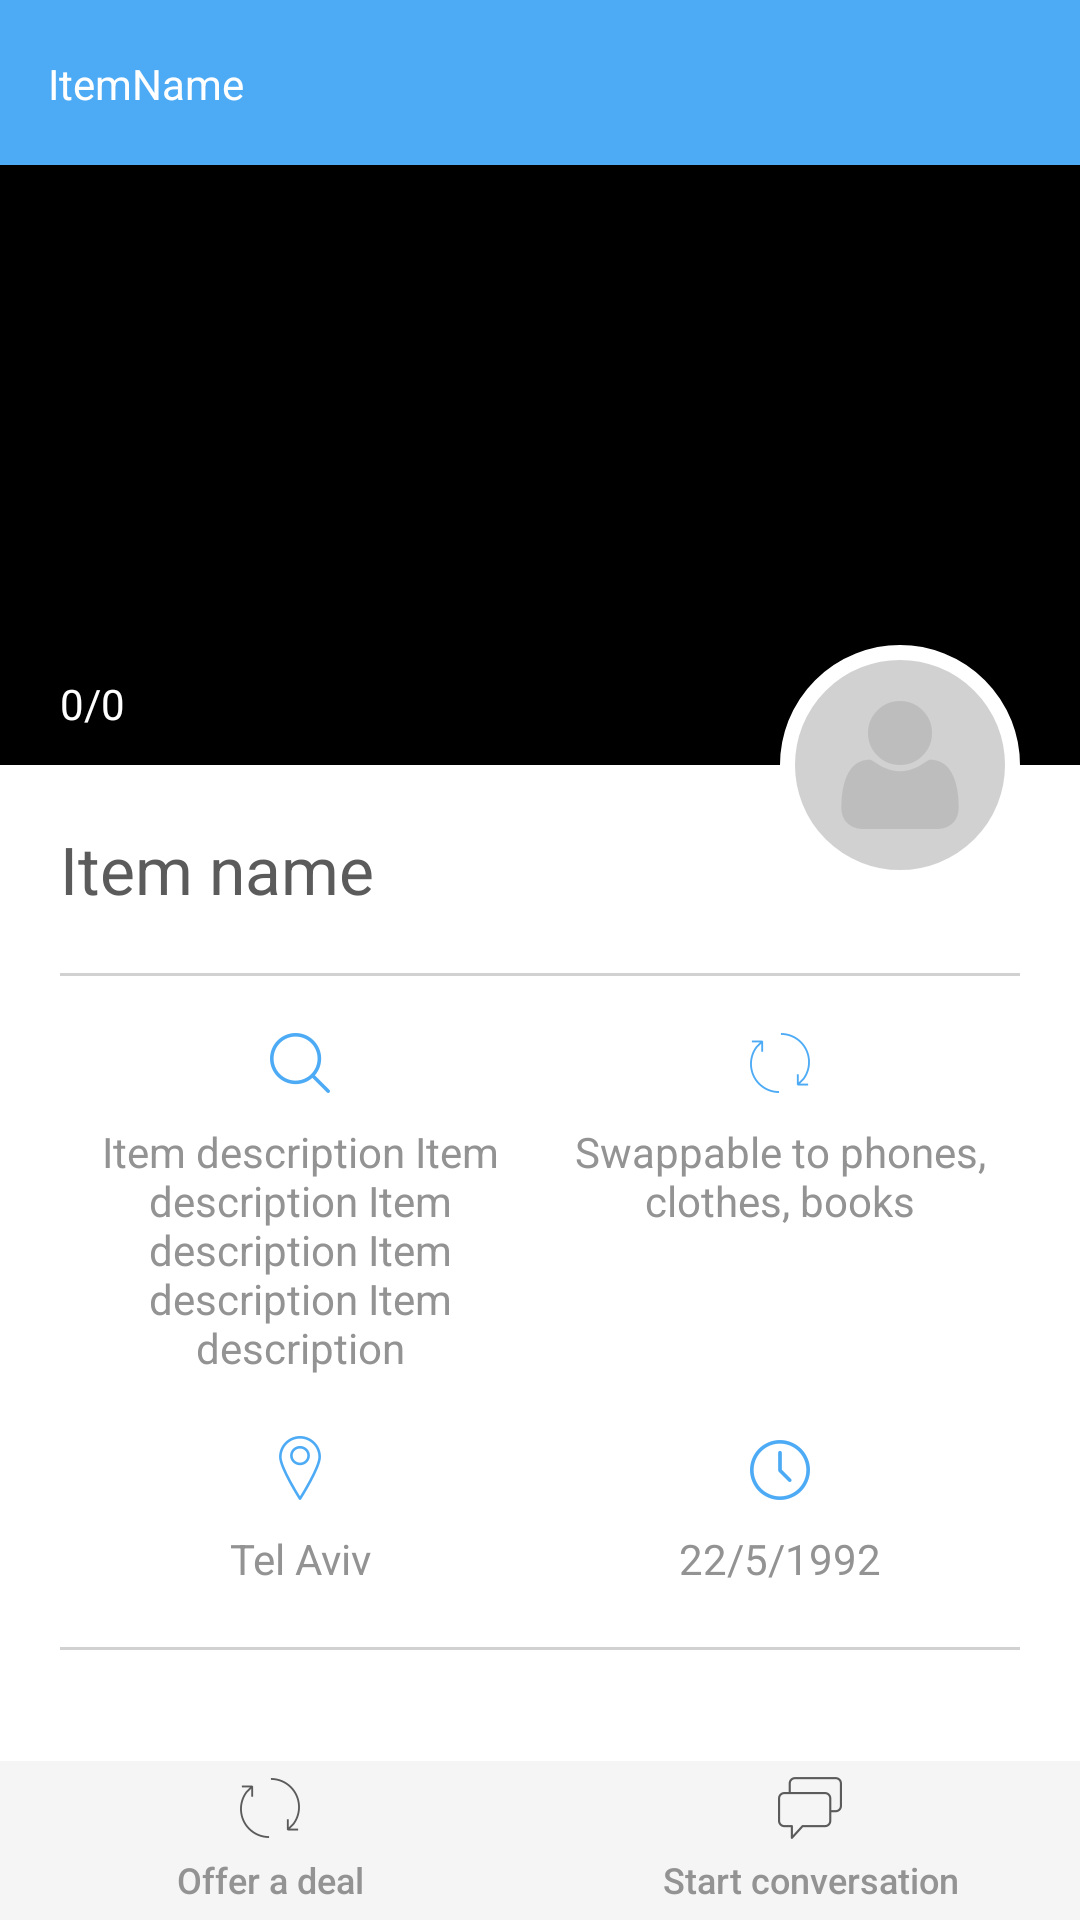

Icons on this 1080px x 1920px Android screen, each with the point to tap as (x=x, y=y):
userbig: (x=900, y=765)
